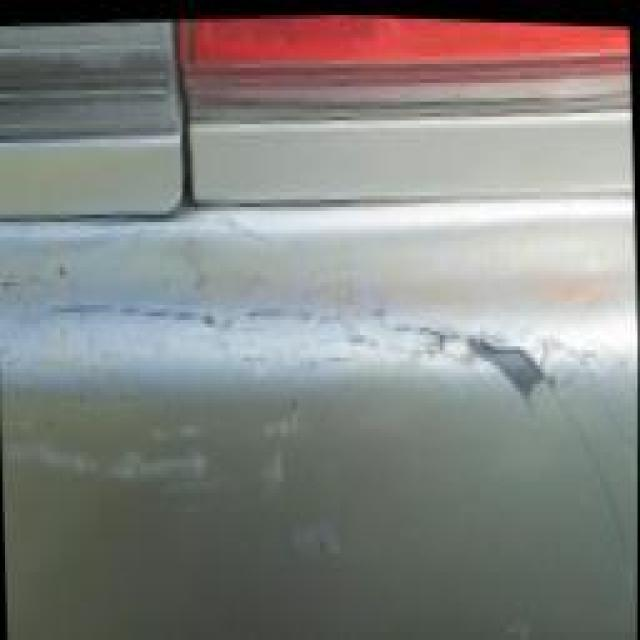Bumper: (0, 79, 640, 640)
